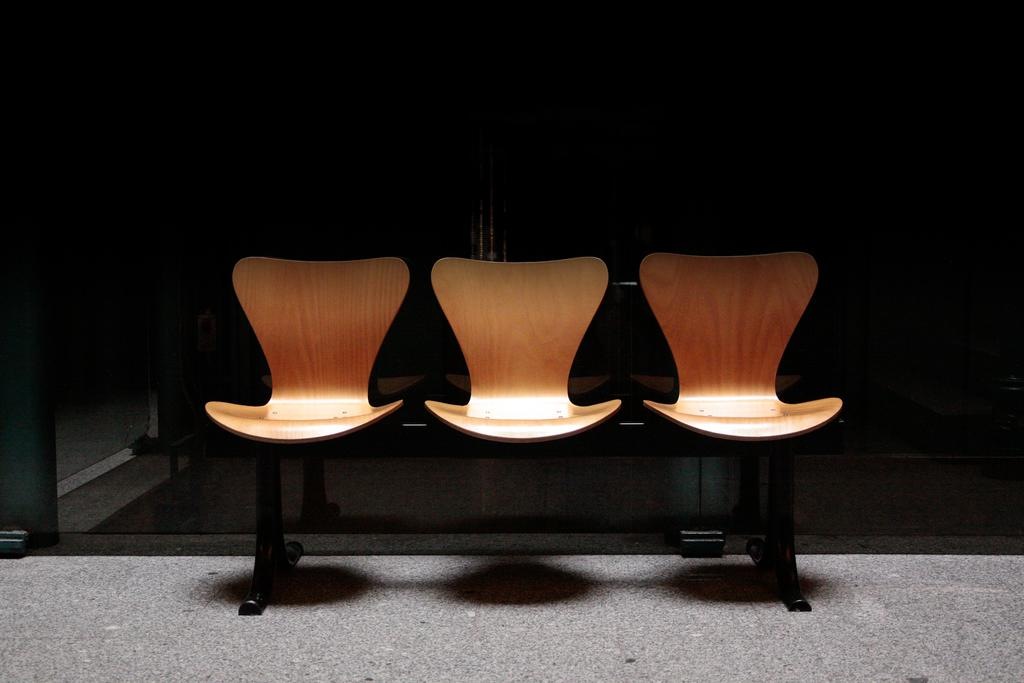Chair: (189, 242, 451, 606), (639, 250, 846, 614), (424, 255, 624, 446)
